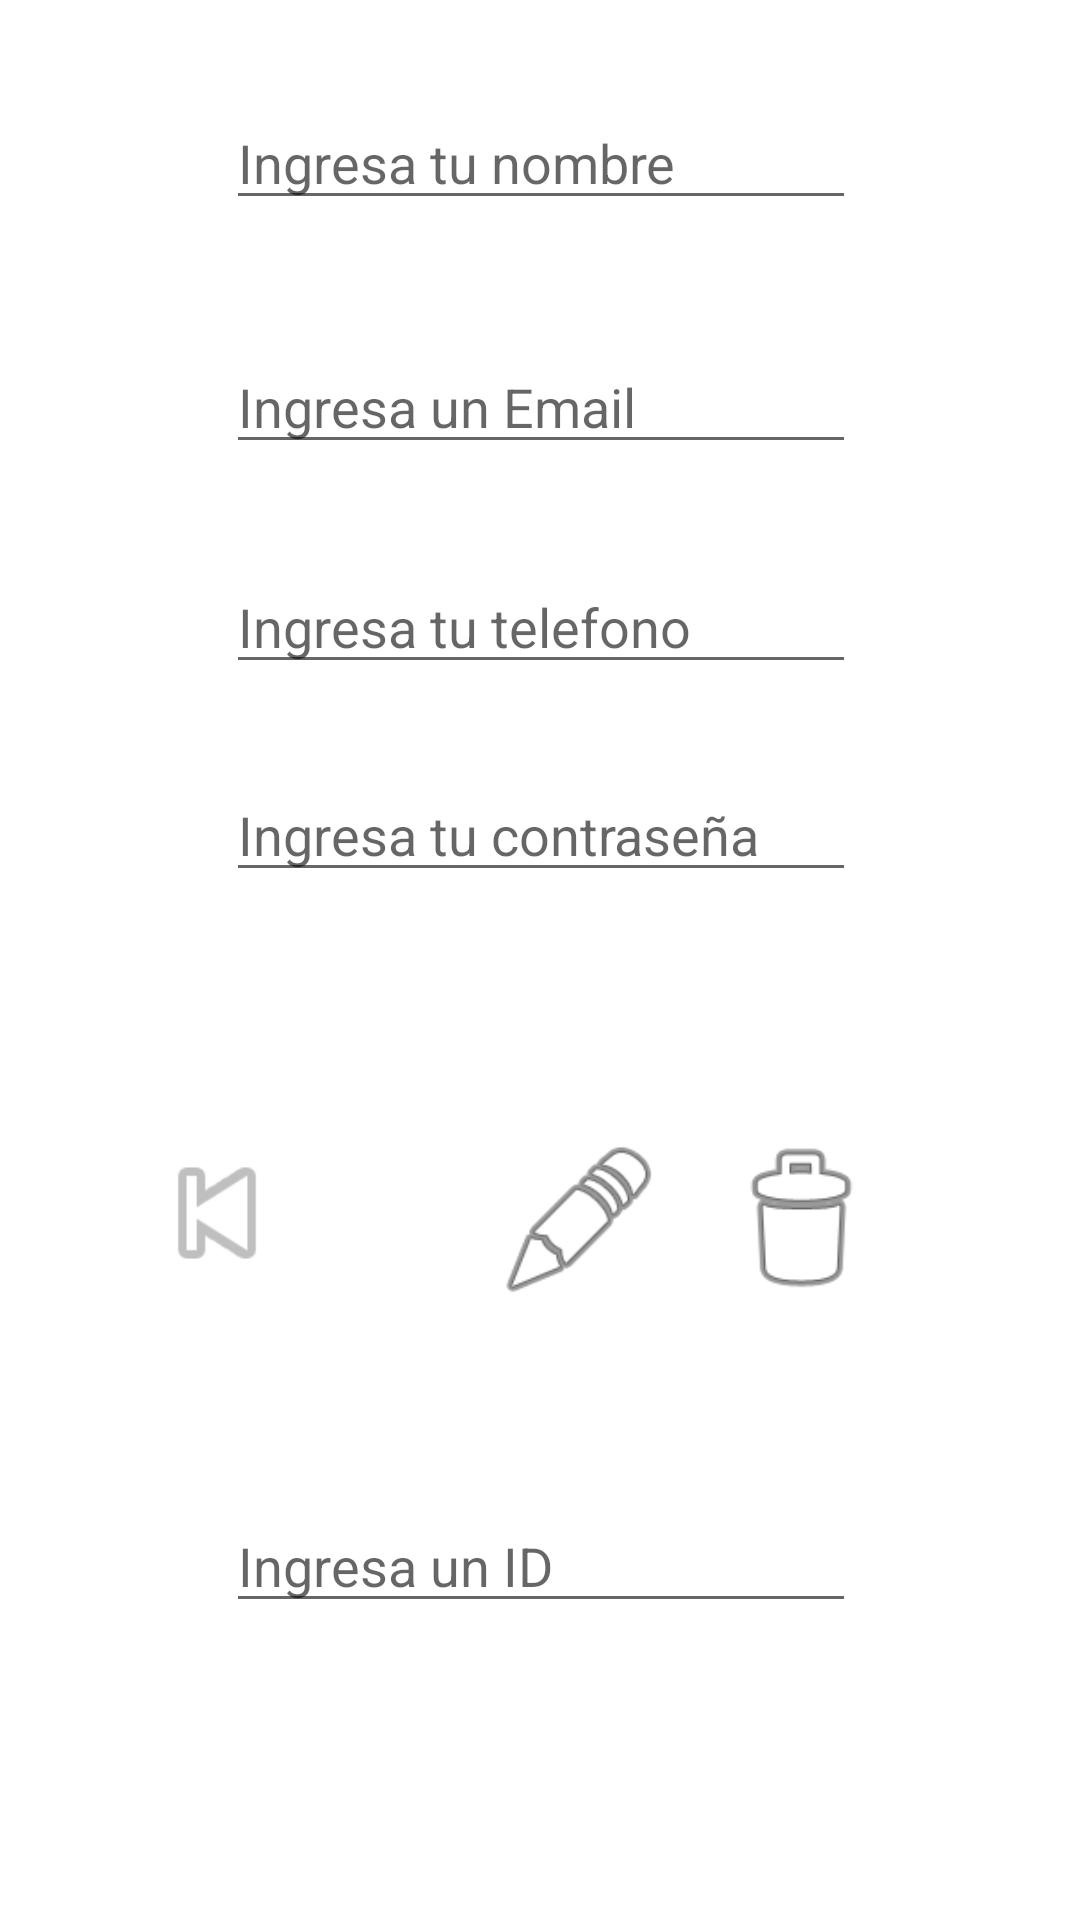

Named icons in this screenshot (1080px×1920px) and their bounding boxes, (x1, y1, x2, y2):
delete: (751, 1148, 852, 1287)
edit: (506, 1147, 651, 1292)
previous: (178, 1167, 256, 1259)
